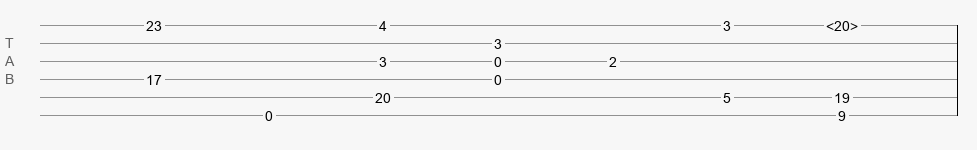0: (265, 108, 273, 118), (494, 54, 502, 64), (494, 72, 502, 82)
17: (146, 72, 162, 82)
19: (834, 90, 850, 100)
2: (609, 54, 617, 64)
20: (375, 90, 391, 100)
23: (146, 18, 162, 28)
3: (379, 54, 387, 64), (494, 36, 502, 46), (723, 18, 731, 28)
4: (379, 18, 387, 28)
5: (723, 90, 731, 100)
9: (838, 108, 846, 118)
harmonic: (826, 18, 858, 28)
